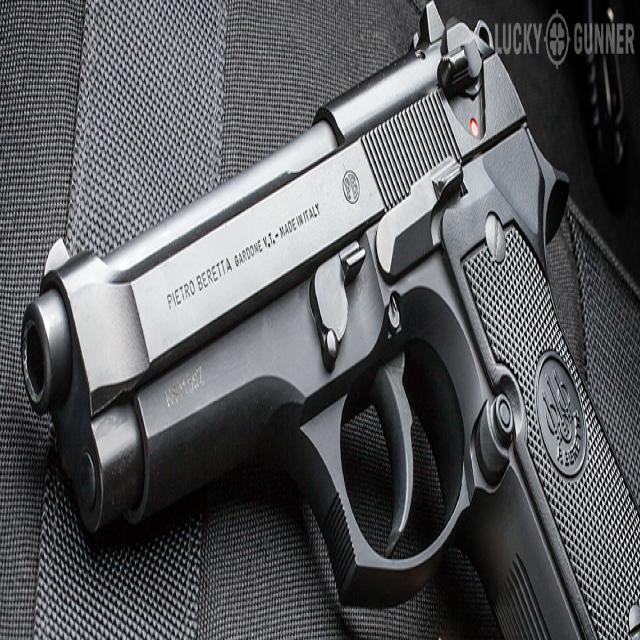Gun: (14, 11, 638, 638)
